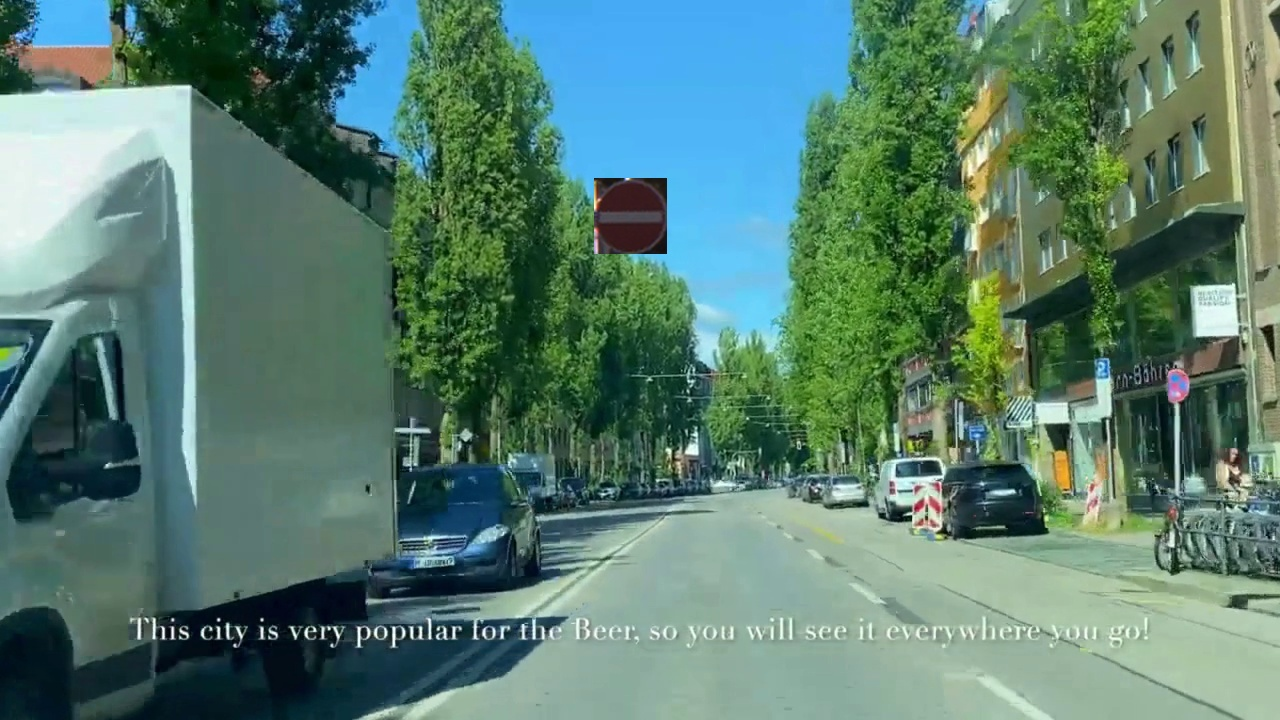No entry: (594, 178, 667, 254)
